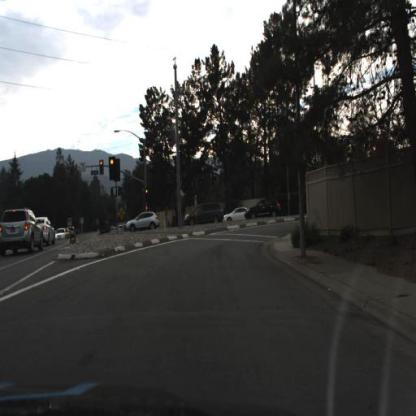car: (1, 205, 43, 257), (184, 202, 225, 229), (243, 198, 284, 222), (126, 210, 164, 232), (226, 204, 250, 225), (43, 214, 57, 245)
trafficLight: (69, 163, 74, 179)
trafficLight-Red: (110, 157, 116, 178), (99, 160, 105, 175), (145, 189, 149, 203)
